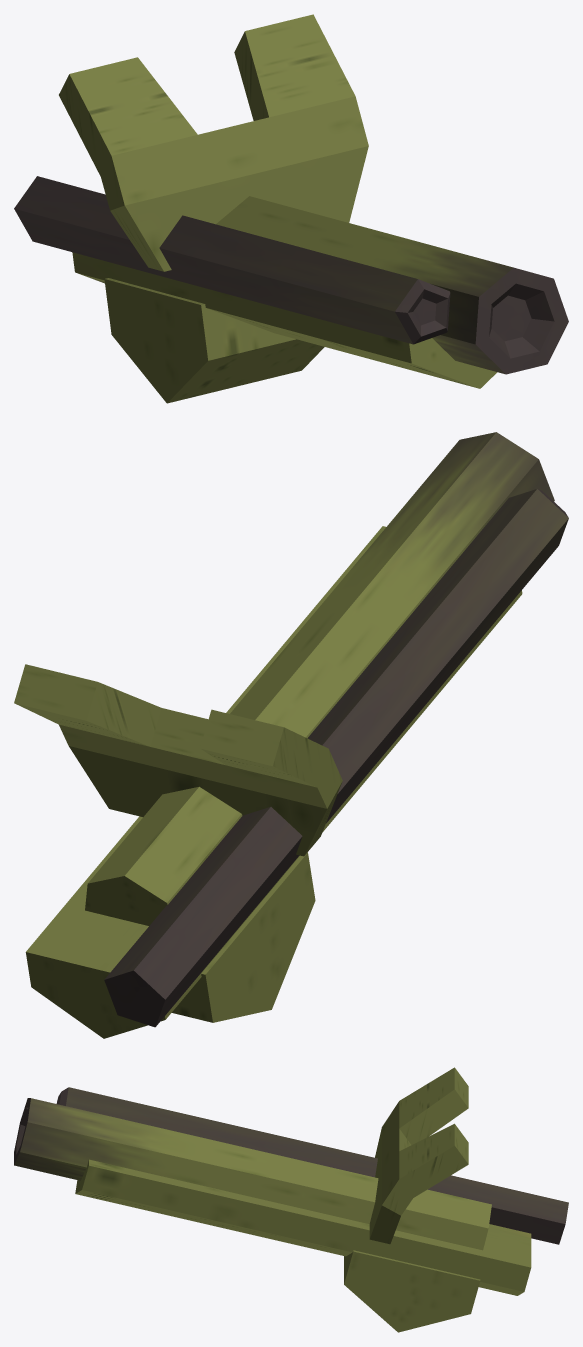
File: ArtilleryGun.fbx
3 views of the same model, one above another, from view 1: azimuth 30°, elevation 25°; view 2: azimuth 150°, elevation 25°; view 3: azimuth 270°, elevation 25° (orthographic). The views are drawn at different scales.
Visible parts, largest first — view 1: Cube; view 2: Cube; view 3: Cube.
Boxes of the visible parts, x1,y1,x2,y2 form: Cube: (14,14,568,403); Cube: (14,432,568,1038); Cube: (14,1067,568,1332).
Bounding box in the file's own units: 29.37 × 37.26 × 88.04.
